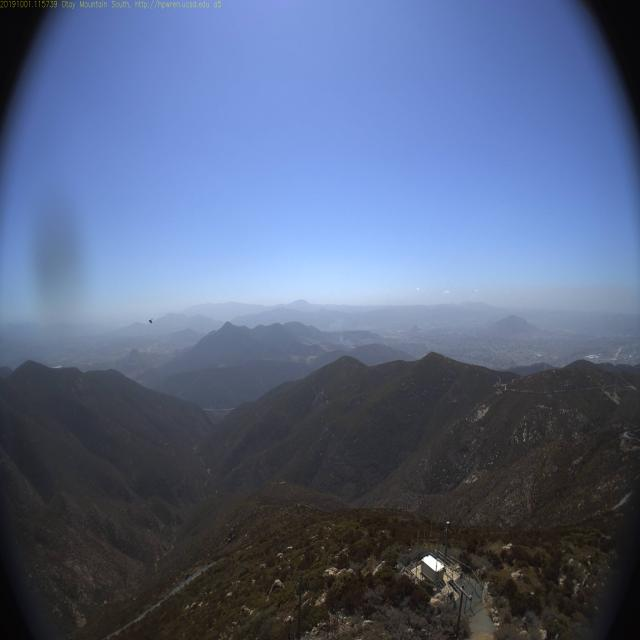smoke: (328, 313, 359, 355)
